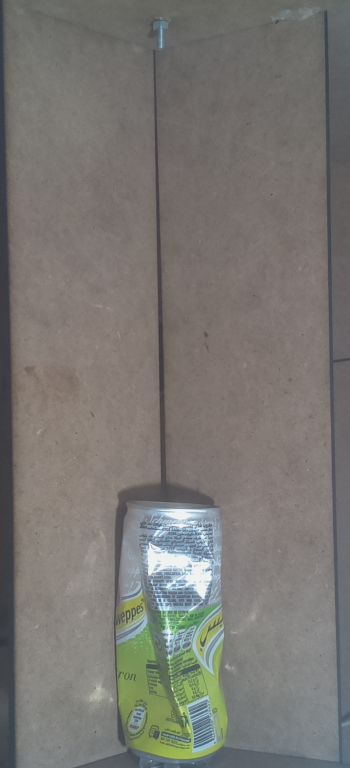Canette: (108, 490, 238, 768)
